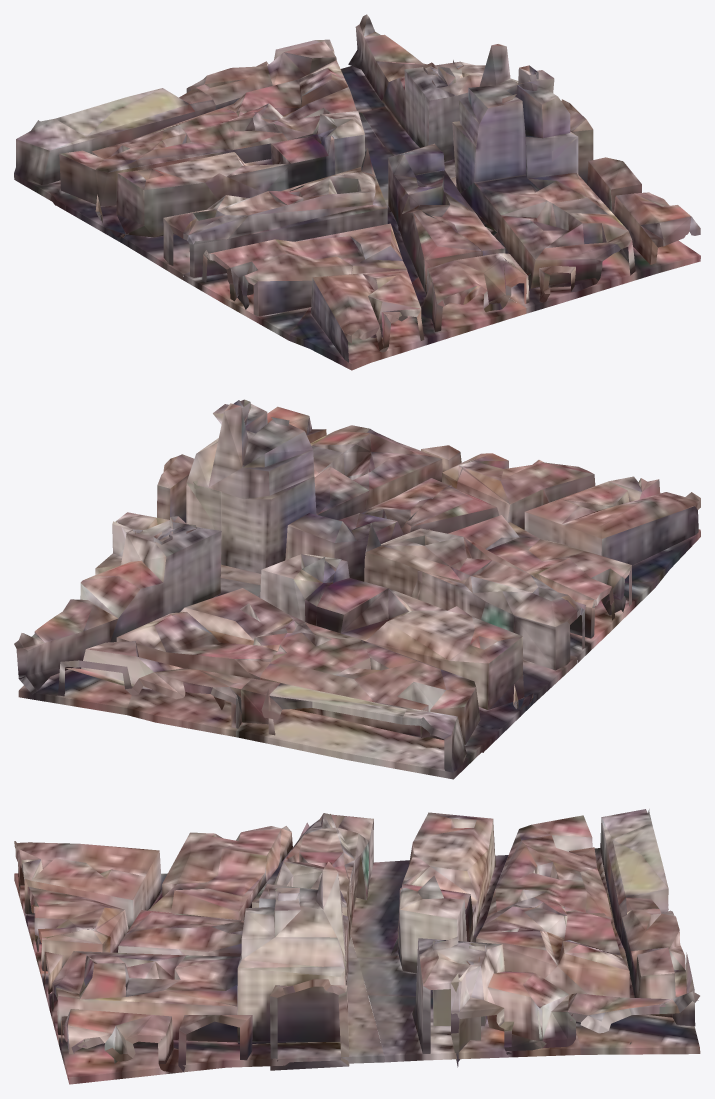
The picture shows the model from 3 angles, top to bottom: view 1: azimuth 30°, elevation 25°; view 2: azimuth 150°, elevation 25°; view 3: azimuth 270°, elevation 25°; orthographic projection. The views are drawn at different scales.
Parts seen in each view (by area): view 1: Mesh_0; view 2: Mesh_0; view 3: Mesh_0.
Boxes of the visible parts, x1,y1,x2,y2 form: Mesh_0: (14,14,700,370); Mesh_0: (14,399,700,779); Mesh_0: (14,809,700,1084).
Bounding box in the file's own units: 266 × 95.22 × 330.
1 material, 1 textured.
